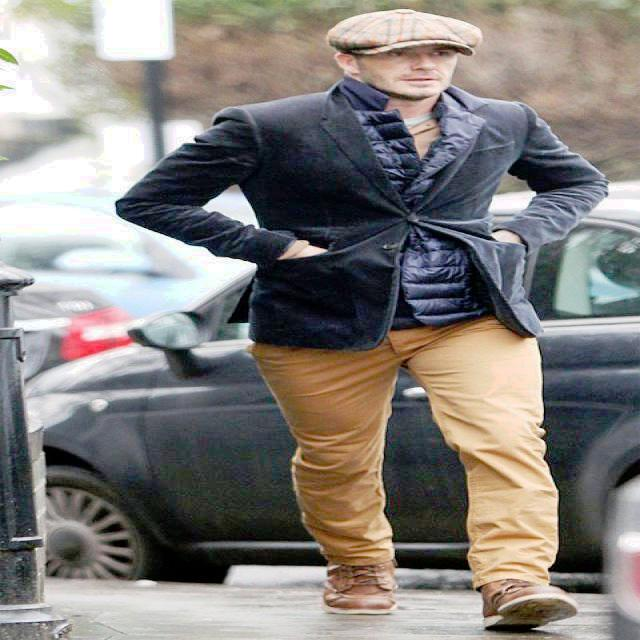TOPI: (318, 5, 492, 60)
